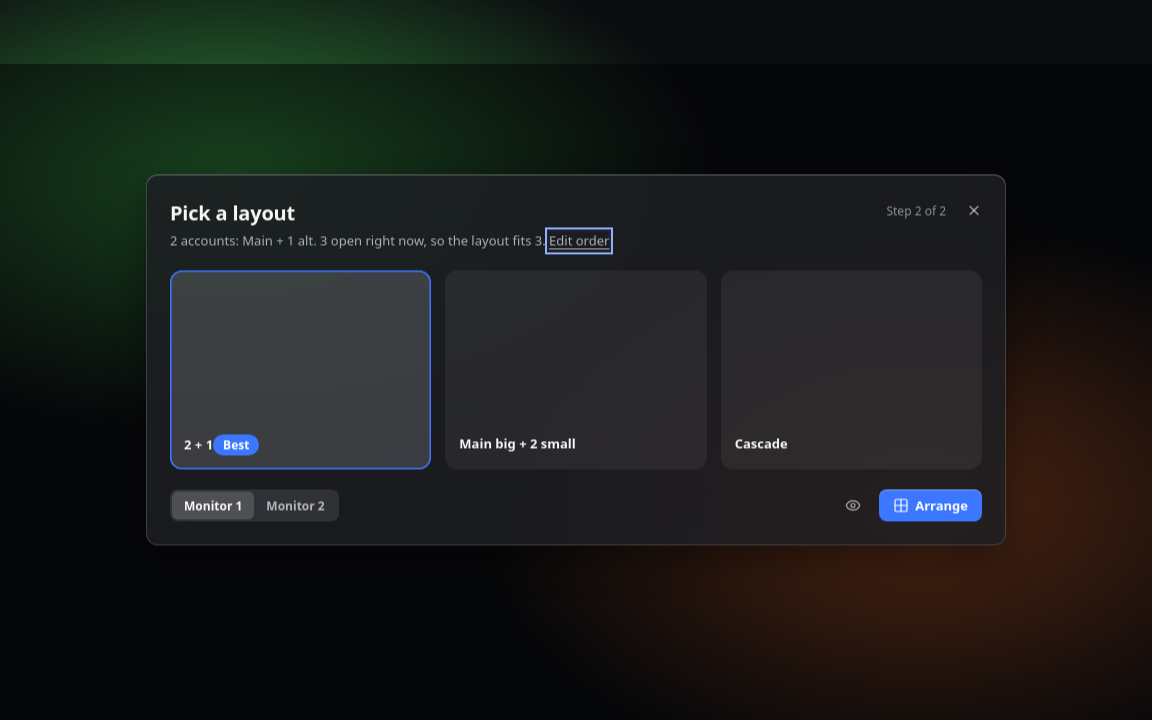
Test: a saved order skips to step 2; Edit order goes back
The width and height of the screenshot is (1152, 720).
Expected: the heading "Pick a layout" is shown, [170,199,295,226]
Click the button "Edit order" at (579, 241), box [549,231,609,250]
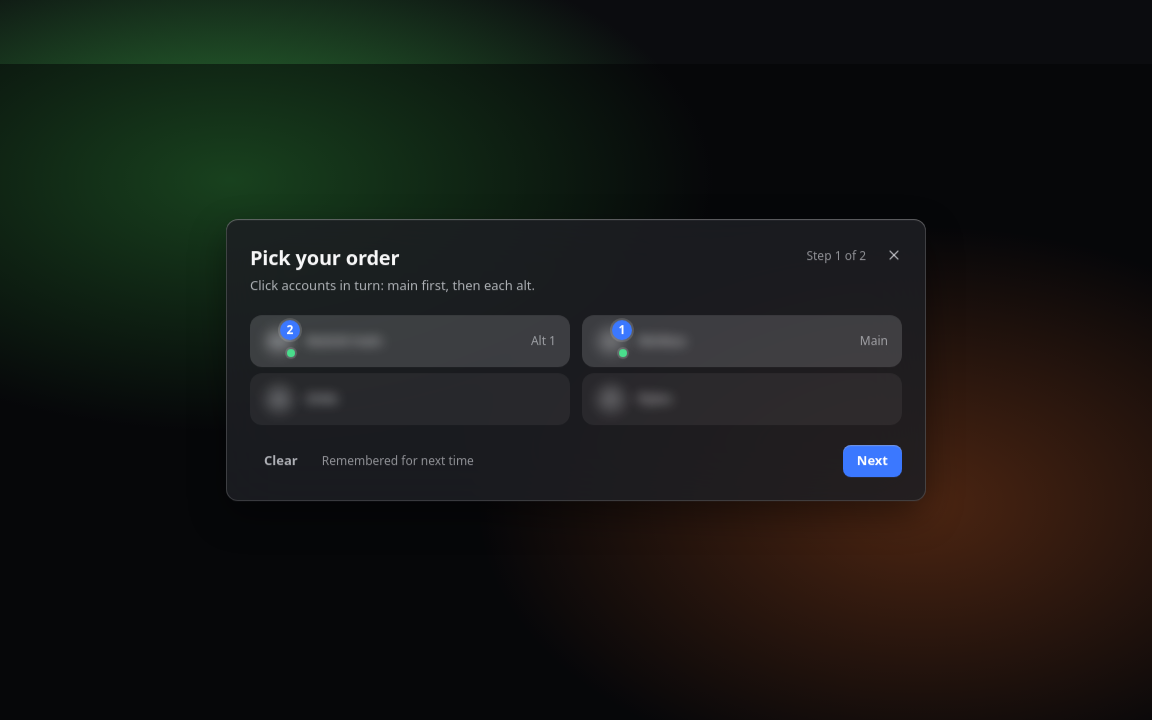
Expected: the heading "Pick your order" is shown, [250,244,399,271]
Expected: the text "Remembered for next time" is shown, [322,452,474,470]
